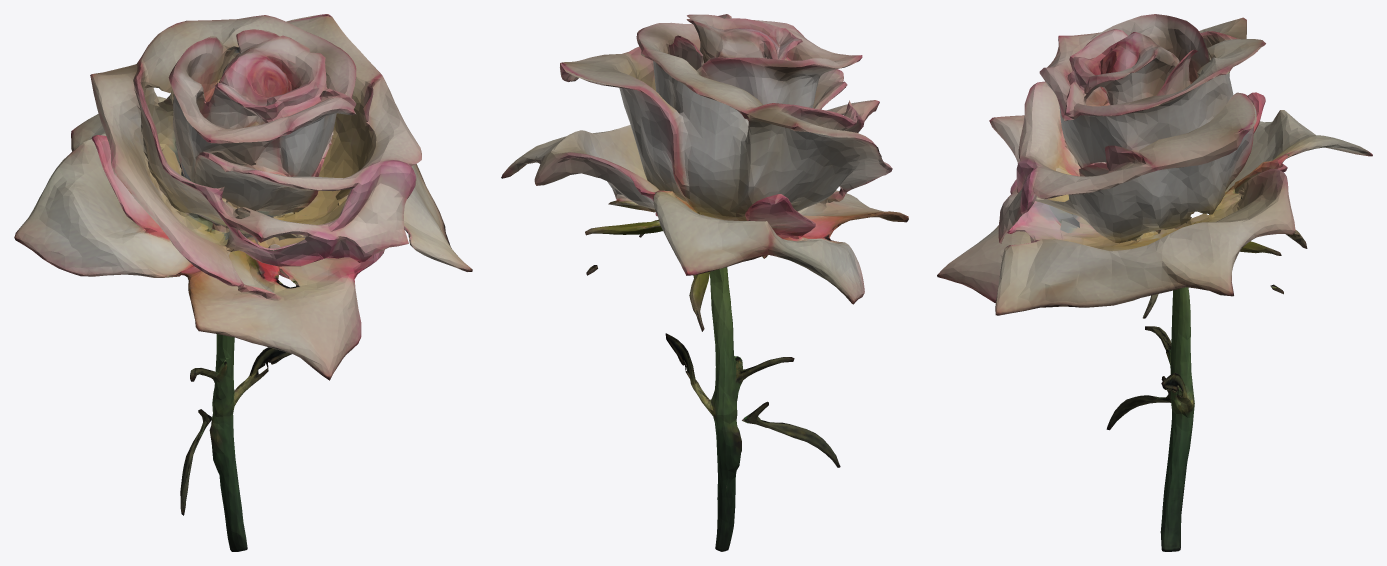
The picture shows the model from 3 angles, left to right: view 1: azimuth 30°, elevation 25°; view 2: azimuth 150°, elevation 25°; view 3: azimuth 270°, elevation 25°; orthographic projection.
Parts seen in each view (by area): view 1: world; view 2: world; view 3: world.
Boxes of the visible parts, x1=… form: world: x1=14, y1=14, x2=472, y2=551; world: x1=501, y1=14, x2=908, y2=551; world: x1=937, y1=14, x2=1372, y2=551.
Size of the model in its own units: 0.6922 by 0.9216 by 0.7074.
Materials: 1 (1 with a texture image).
